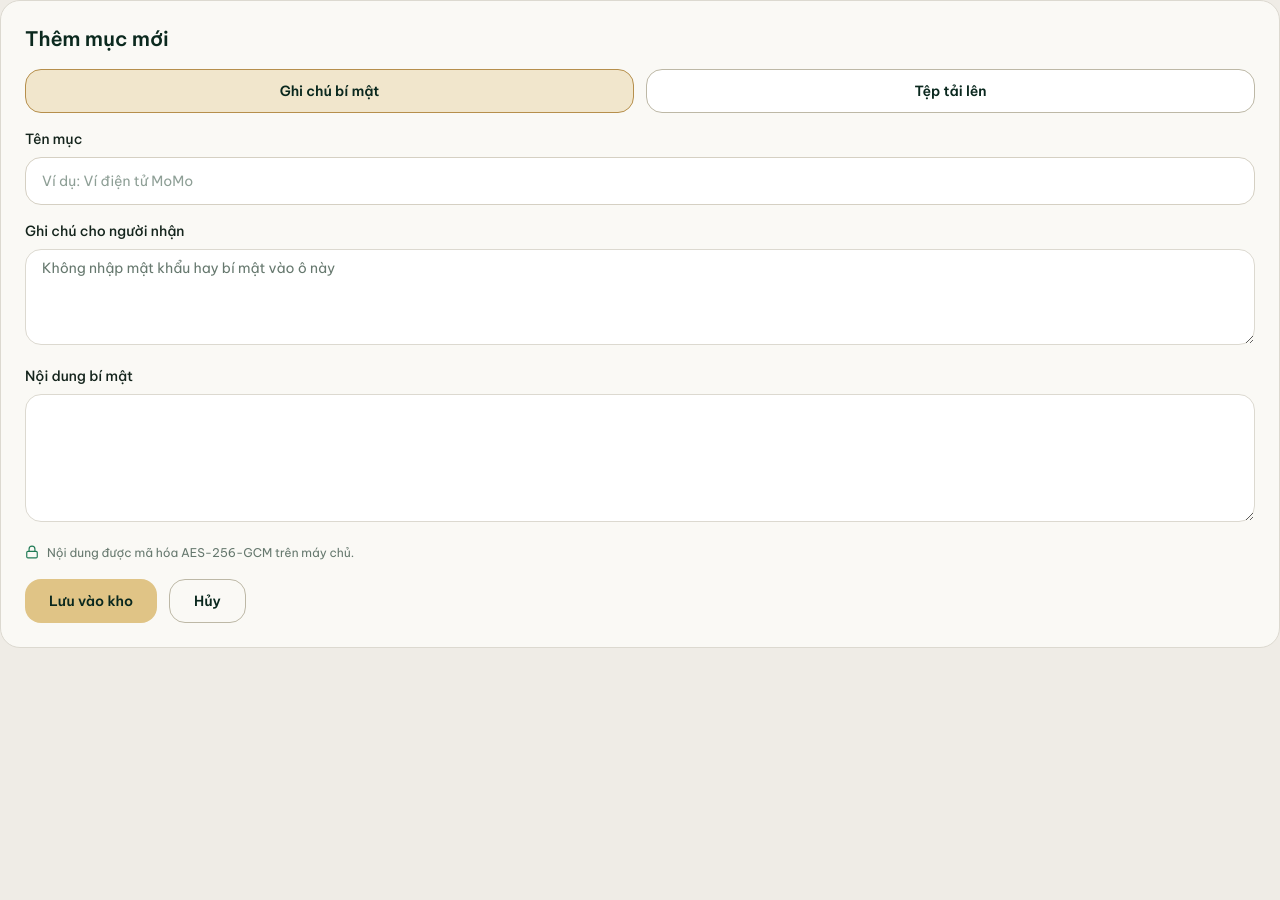
Test case: creates TEXT via raw Axios transport, clears the form, and never caches plaintext
Step 1. Type "Ghi chú" into the field labelled "Tên mục" → (640, 181), box top-left (25, 157), bottom-right (1255, 205)
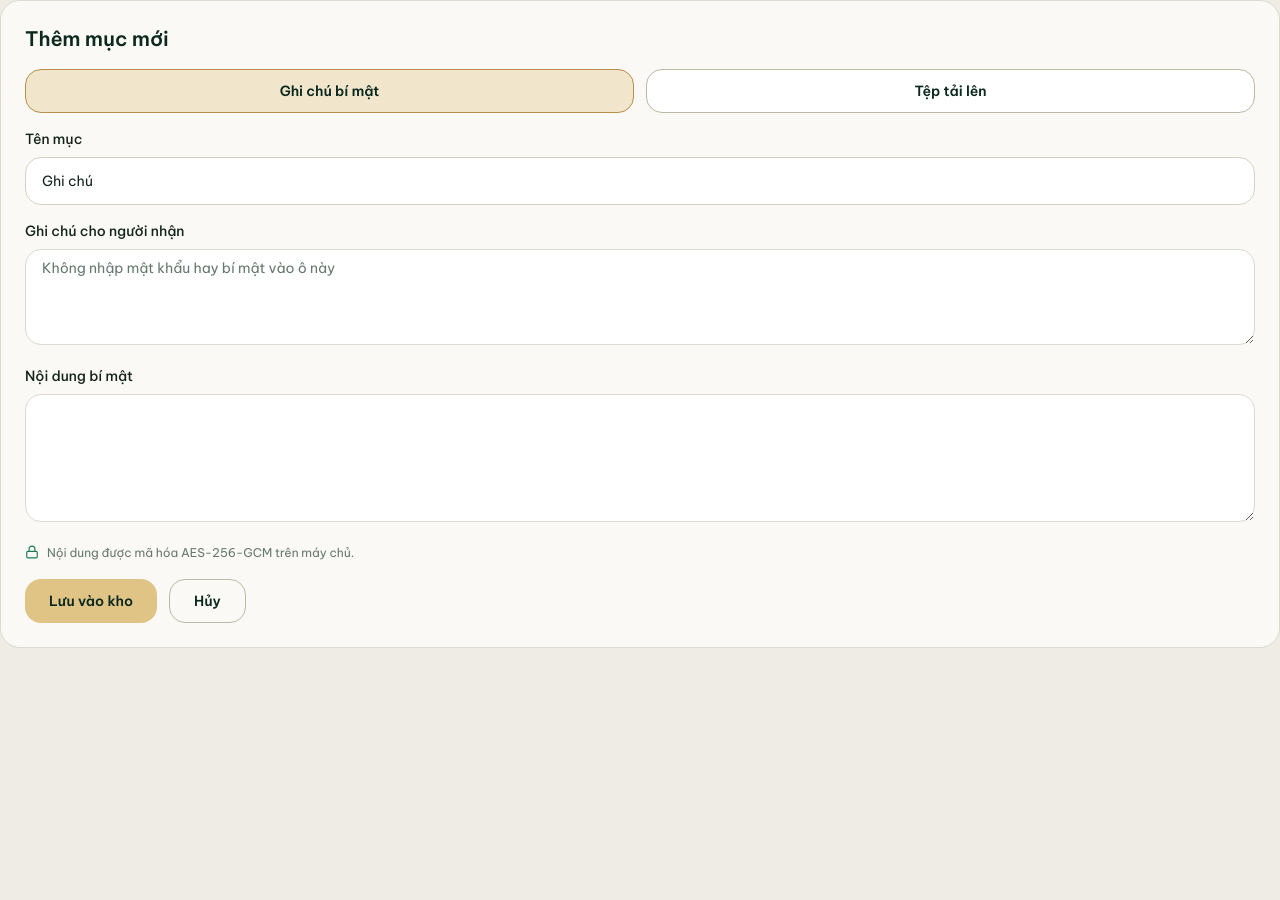
Step 2. Type "private-content-fixture" into the text box labelled "Nội dung bí mật" → (640, 458), box top-left (25, 394), bottom-right (1255, 522)
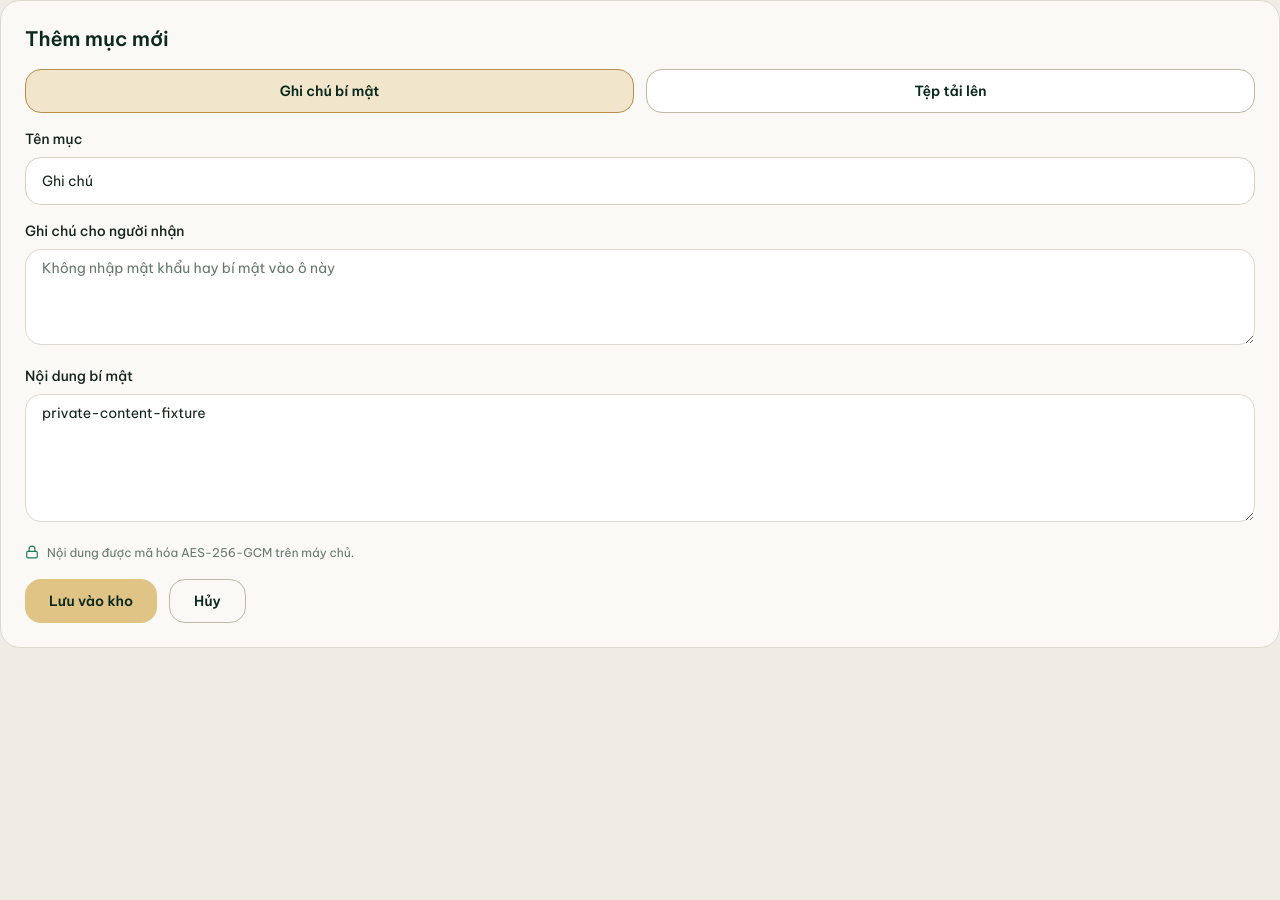
Step 3. Click the button "Lưu vào kho" → (91, 601), box top-left (25, 579), bottom-right (157, 623)
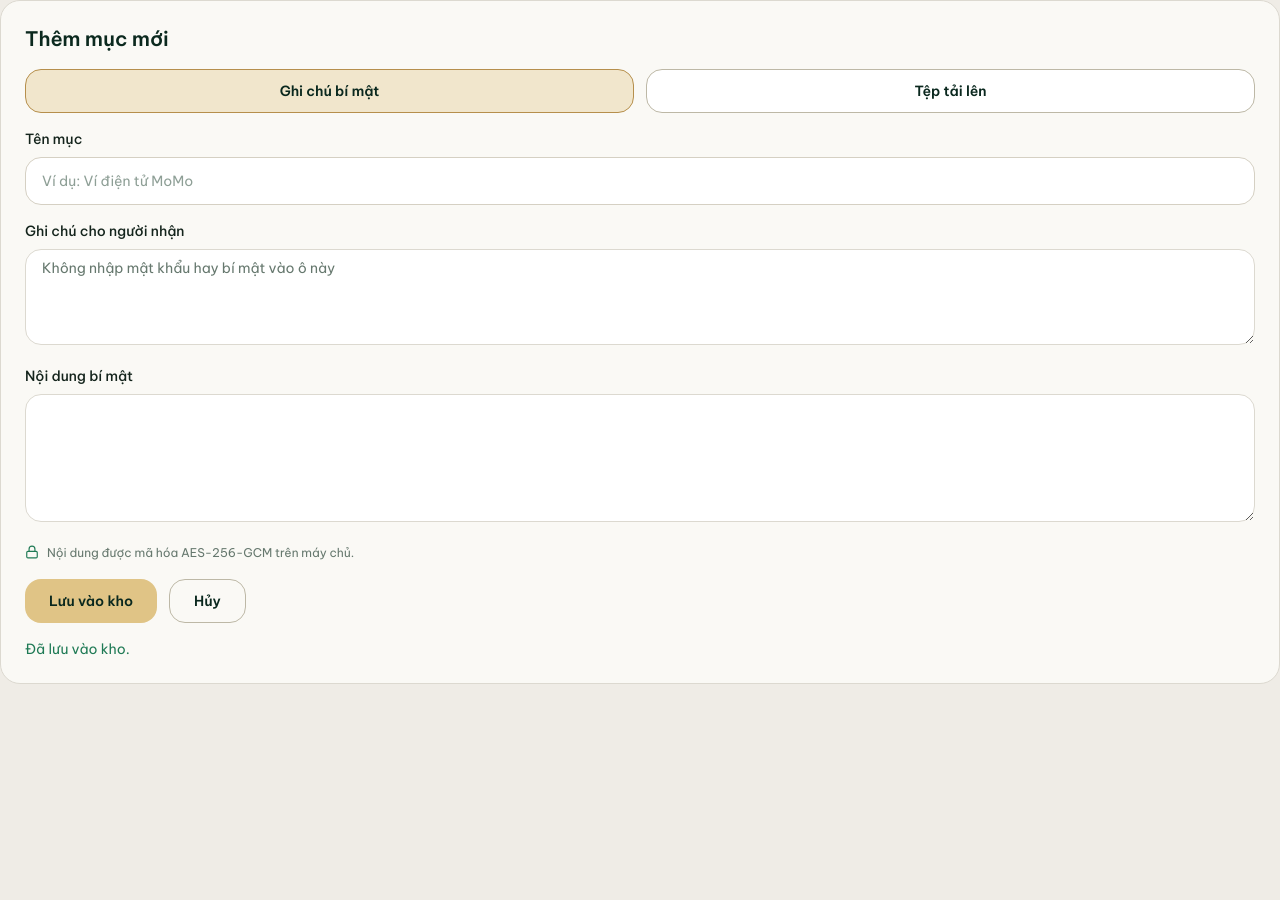
Result: the message shows "Đã lưu vào kho" at top-left (25, 640), bottom-right (130, 658)
Result: the text box labelled "Nội dung bí mật" is empty at top-left (25, 394), bottom-right (1255, 522)
